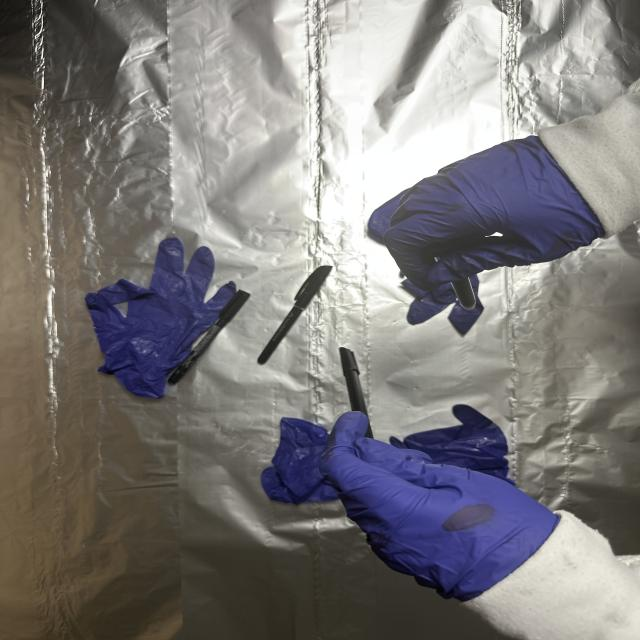gloves_contaminated: (321, 412, 559, 601), (370, 136, 604, 290)
